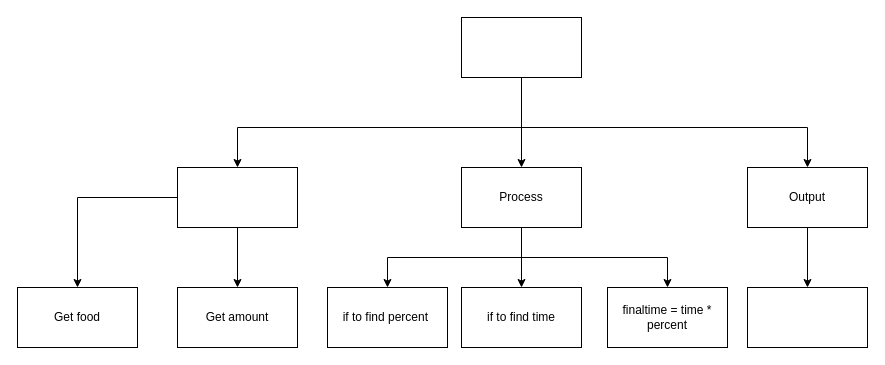
Image size: 885x365. Some labels were removed from this diagram. The centre of each missing label's shape, as x and y in pixels:
"Input" goes at (237,197).
"Microwave Program" goes at (521,47).
"output finaltime" goes at (807,317).
